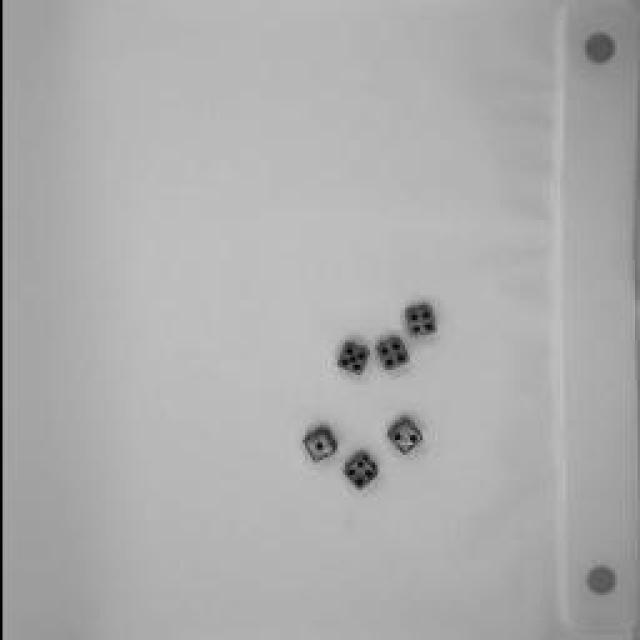dice_1: (292, 422, 340, 468)
dice_2: (380, 412, 425, 460)
dice_4: (334, 446, 384, 494), (368, 332, 412, 378), (398, 298, 442, 342)
dice_5: (330, 338, 372, 380)
